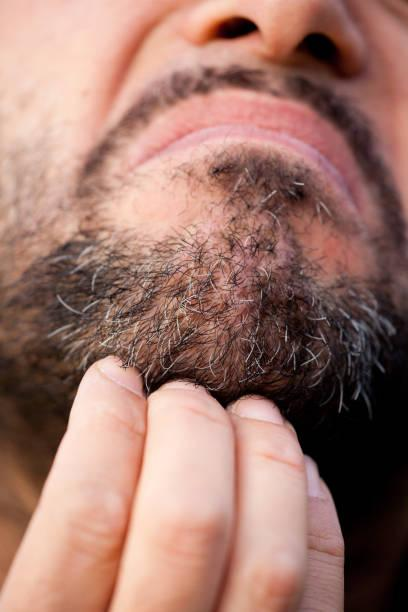grey hair: (356, 300, 384, 382), (50, 288, 87, 323), (252, 178, 279, 219), (248, 333, 267, 376), (73, 338, 94, 372), (337, 368, 350, 420), (298, 338, 319, 368), (303, 311, 328, 323)
